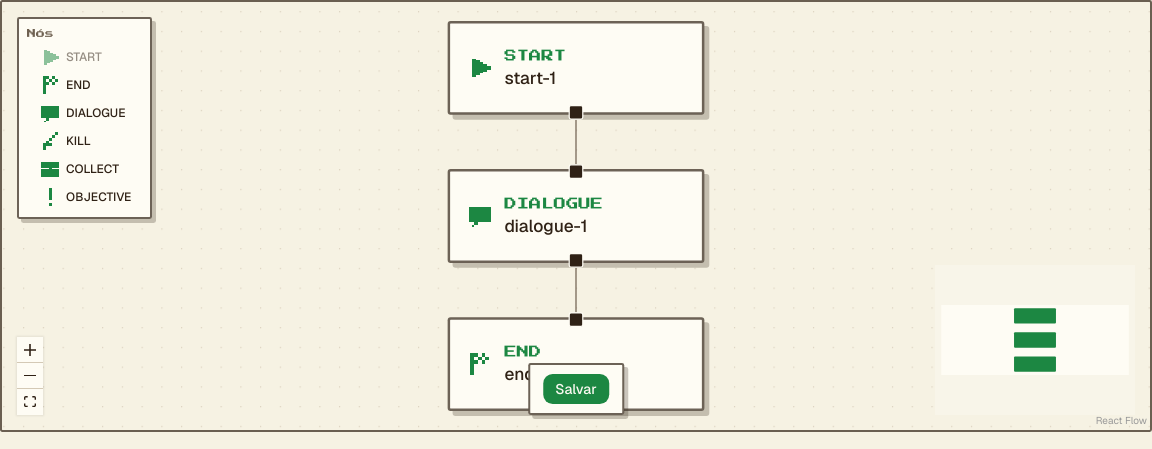
Test: MissionCanvas editable › saves through the service and clears the dirty state
Click the button with test id "palette-OBJECTIVE" at [85, 196], box [27, 184, 142, 208]
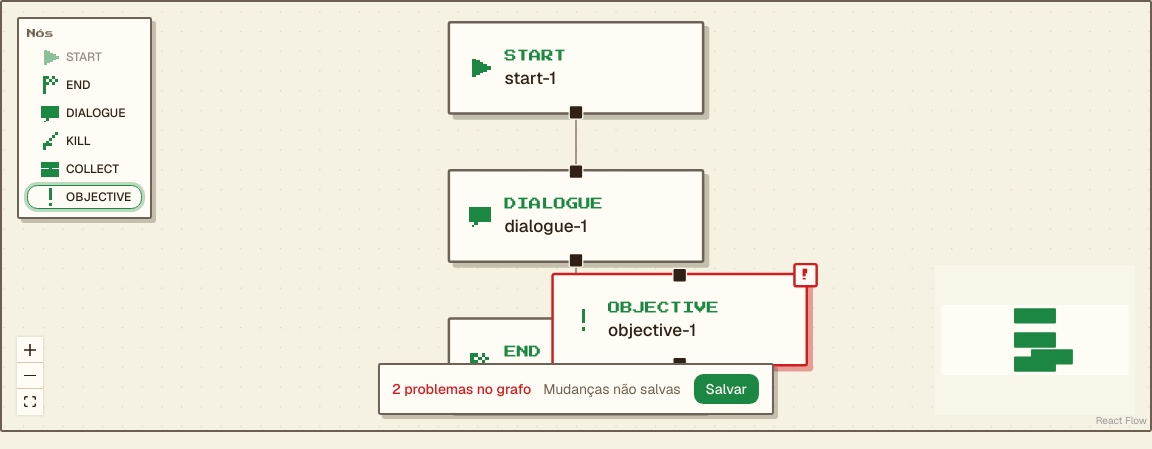
Click the button "Salvar" at [726, 389], box [692, 373, 760, 405]
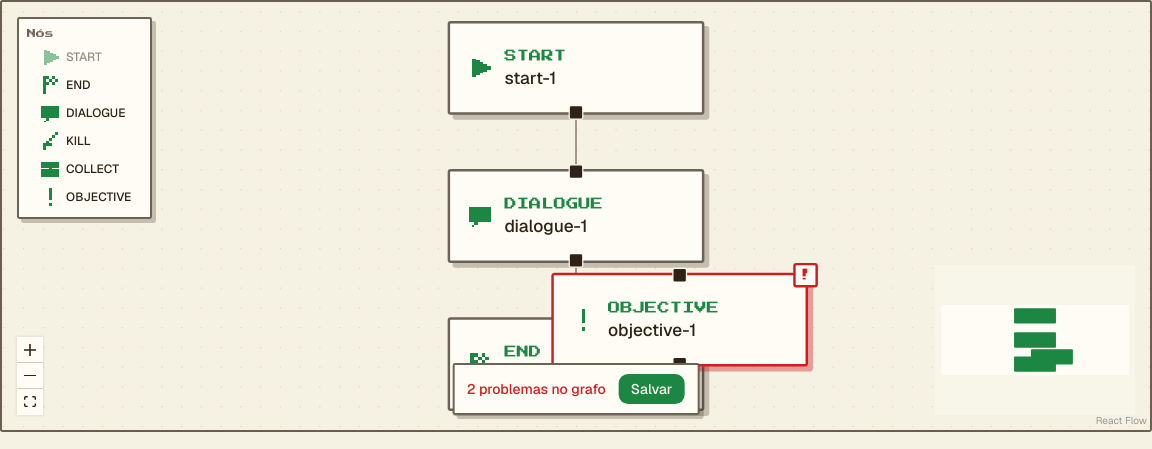
Check: the text with test id "dirty-indicator" is gone
